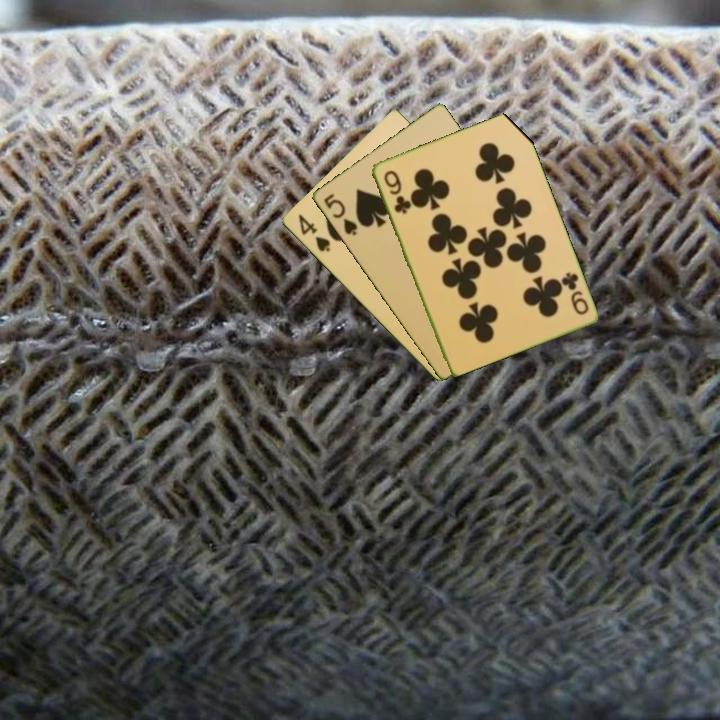4s: (294, 210, 333, 255)
5s: (320, 190, 360, 239)
9c: (557, 269, 591, 318), (380, 166, 412, 216)
